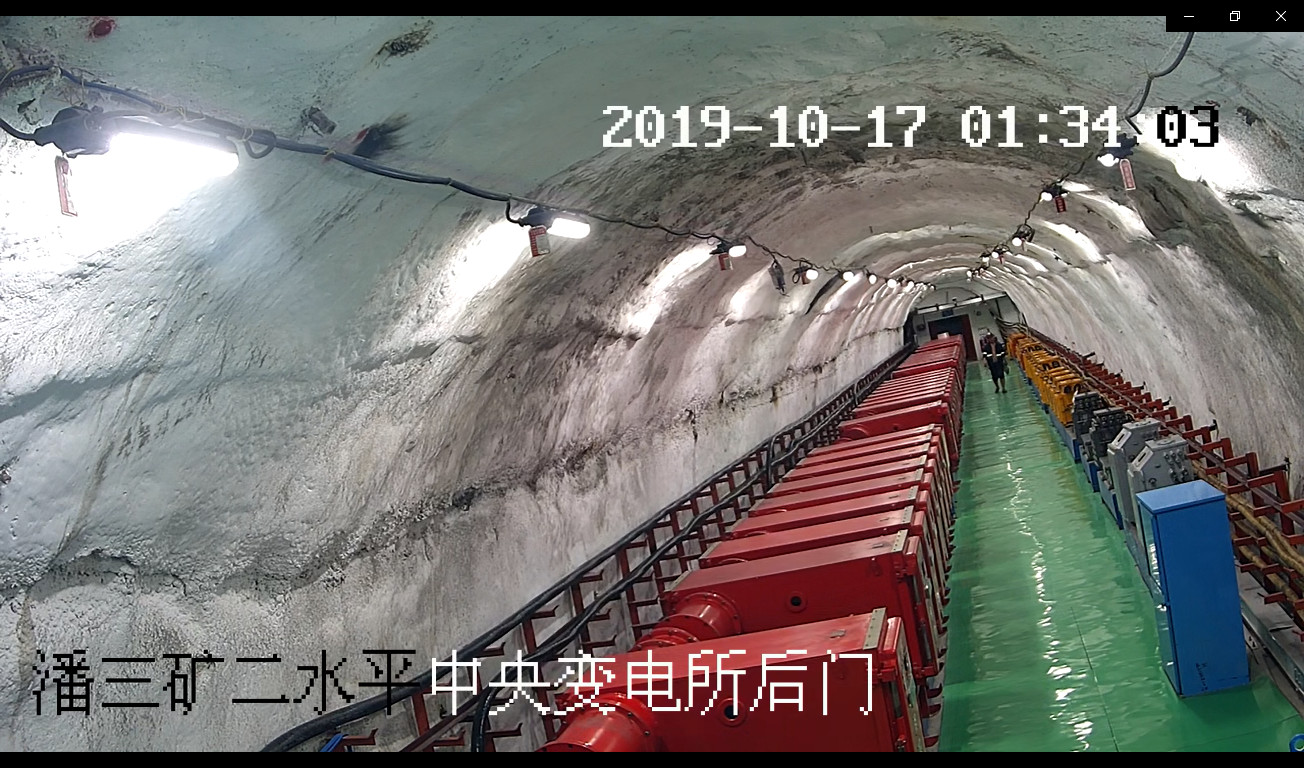helmet: (985, 331, 994, 338)
